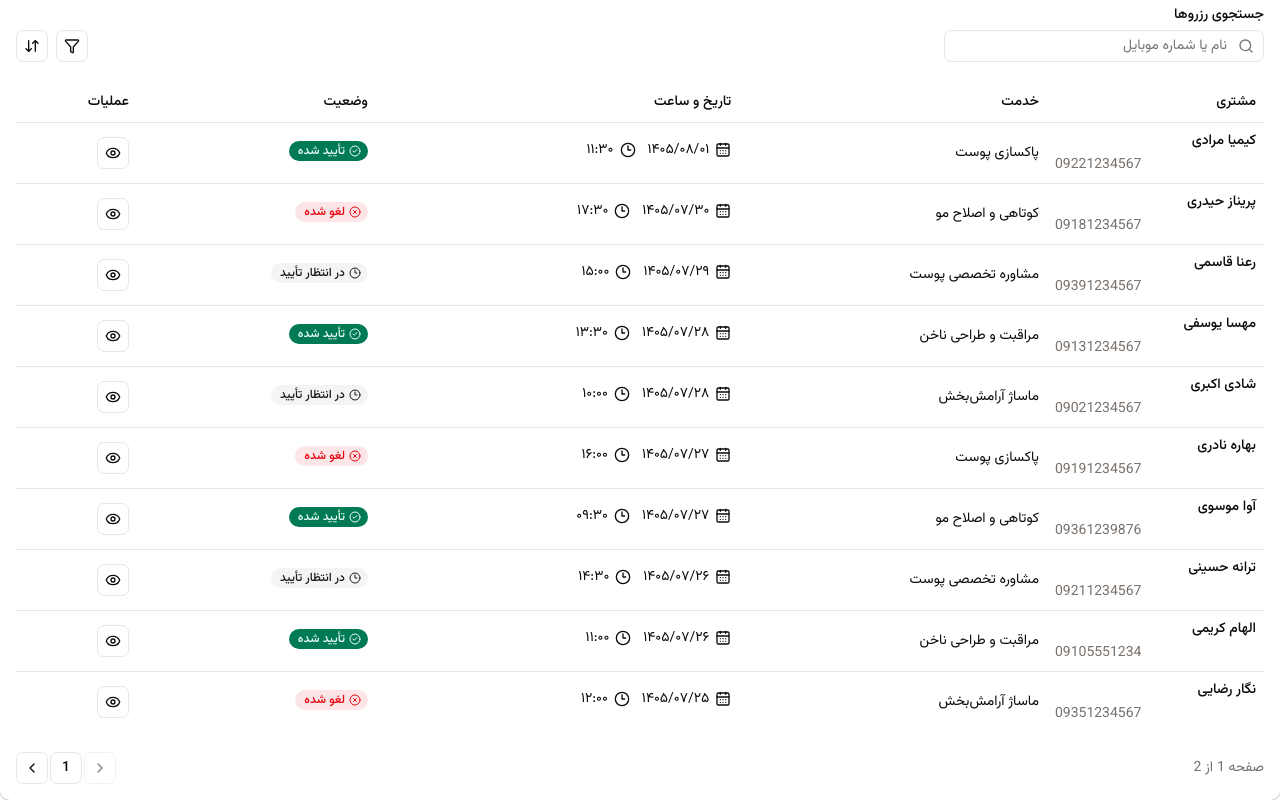
Test: ReservationList › navigates to the two remaining reservations and disables the final next control
The image size is (1280, 800).
(page scrolled)
Click the button named "صفحه بعد": (32, 768) [16, 752, 48, 784]
(page scrolled)
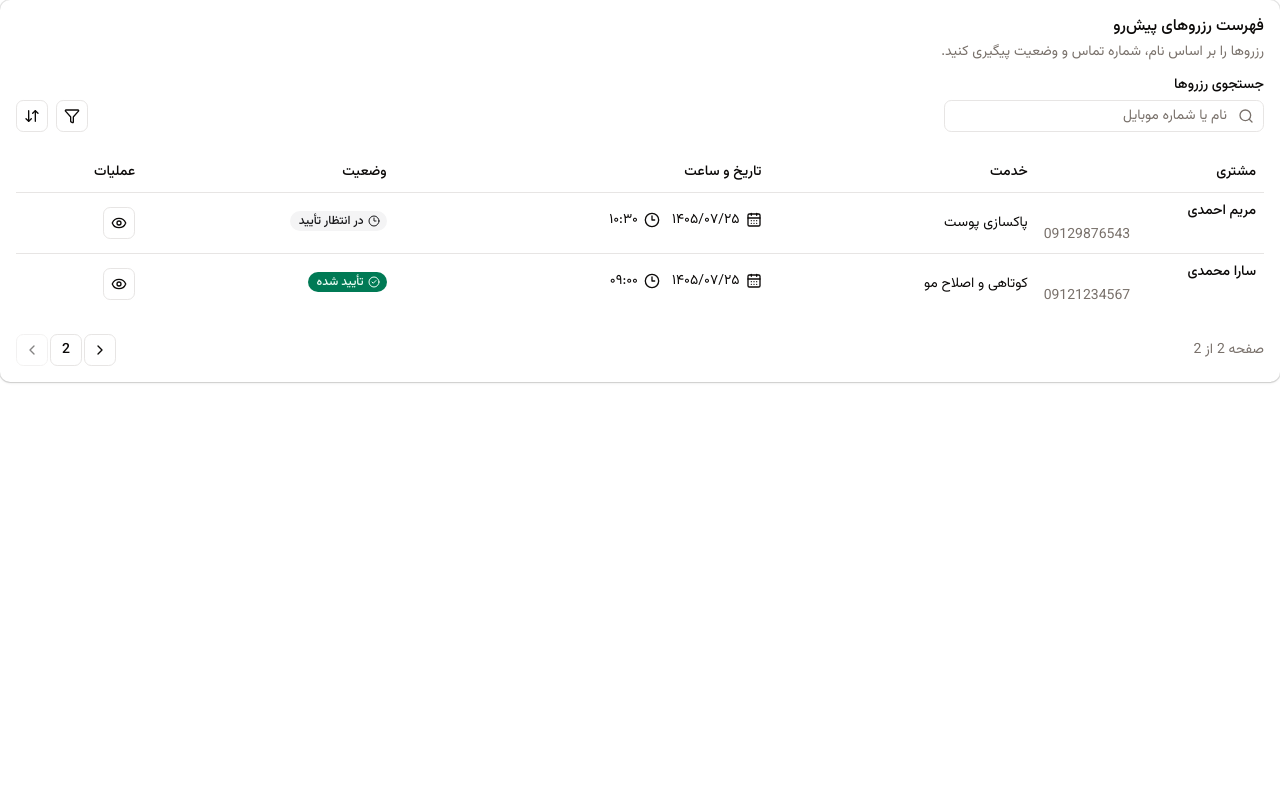
Now the text "سارا محمدی" is shown 2 times
Now the text "مریم احمدی" is shown 2 times
Now the text "صفحه 2 از 2" is shown, box [1193, 340, 1264, 360]
